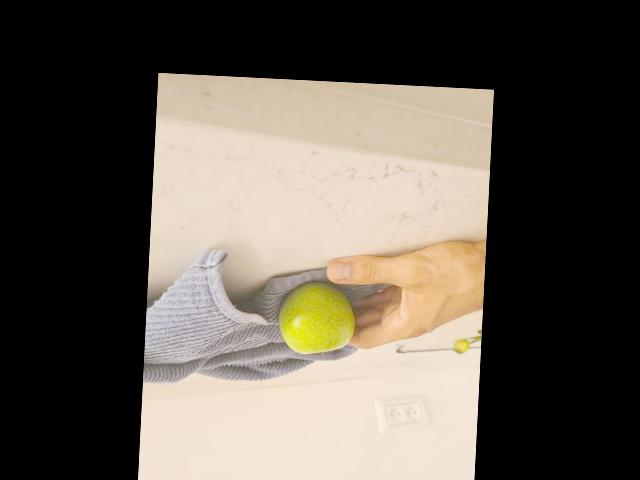apple: (280, 280, 352, 358)
